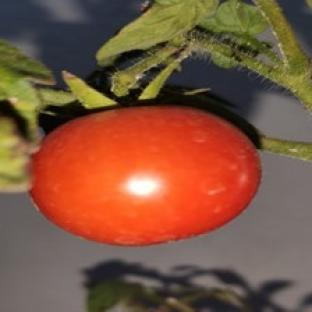Tomato: (31, 106, 260, 245)
